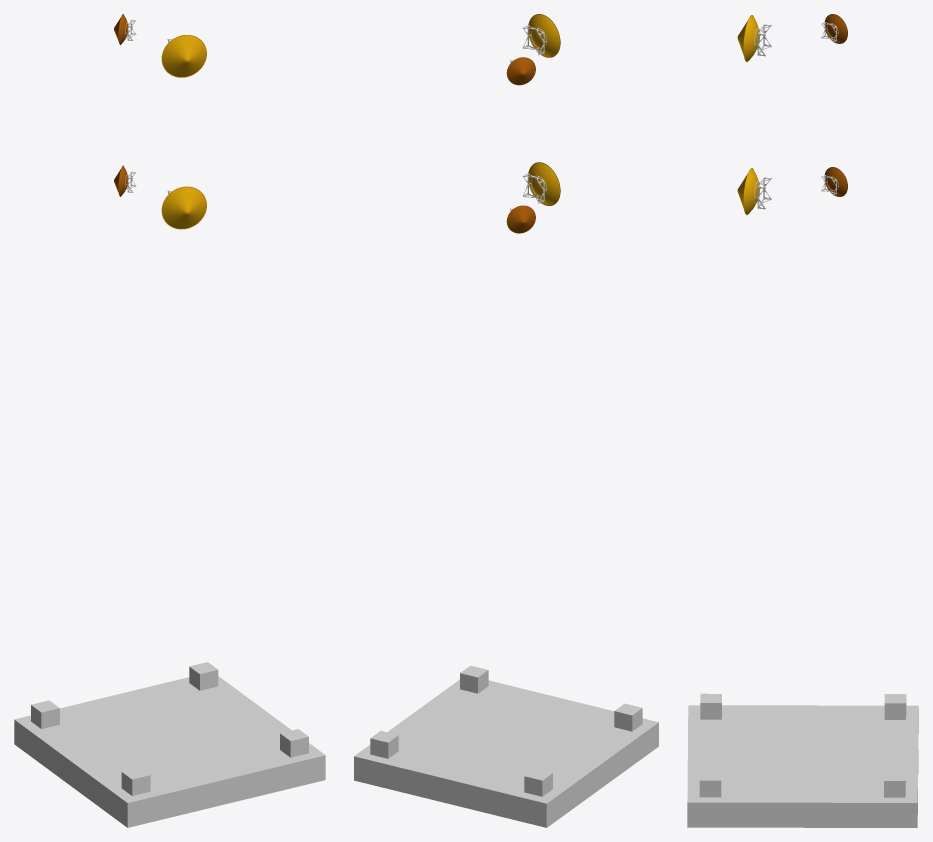
Rendered from 漢那ダム.glb.
The picture shows the model from 3 angles, left to right: view 1: azimuth 30°, elevation 25°; view 2: azimuth 150°, elevation 25°; view 3: azimuth 270°, elevation 25°; orthographic projection. The views are drawn at different scales.
Visible parts, largest first — view 1: group_14, group_88.008, group_88.012, group_13.002, group_13.003, group_13, group_13.001; view 2: group_14, group_88.008, group_88.012, group_13, group_13.001, group_13.002, group_13.003, group_88, group_88.004; view 3: group_14, group_88.008, group_88.012, group_13.001, group_13, group_13.002, group_13.003, group_88, group_88.004.
Part boxes in pixels (x1=…): group_14: x1=14, y1=676, x2=325, y2=827; group_88.008: x1=162, y1=35, x2=206, y2=76; group_88.012: x1=162, y1=187, x2=206, y2=228; group_13.002: x1=121, y1=767, x2=150, y2=795; group_13.003: x1=189, y1=662, x2=218, y2=690; group_13: x1=31, y1=700, x2=59, y2=728; group_13.001: x1=280, y1=729, x2=308, y2=757; group_14: x1=354, y1=679, x2=658, y2=827; group_88.008: x1=529, y1=14, x2=559, y2=57; group_88.012: x1=529, y1=163, x2=559, y2=205; group_13: x1=524, y1=768, x2=552, y2=796; group_13.001: x1=460, y1=665, x2=488, y2=693; group_13.002: x1=614, y1=703, x2=642, y2=731; group_13.003: x1=370, y1=731, x2=398, y2=758; group_88: x1=507, y1=57, x2=535, y2=84; group_88.004: x1=507, y1=206, x2=535, y2=232; group_14: x1=687, y1=705, x2=918, y2=827; group_88.008: x1=737, y1=15, x2=759, y2=61; group_88.012: x1=737, y1=169, x2=759, y2=214; group_13.001: x1=699, y1=771, x2=721, y2=797; group_13: x1=884, y1=694, x2=906, y2=719; group_13.002: x1=700, y1=693, x2=721, y2=719; group_13.003: x1=884, y1=772, x2=905, y2=797; group_88: x1=825, y1=14, x2=847, y2=43; group_88.004: x1=825, y1=167, x2=847, y2=196.
Size of the model in its own units: 15.05 by 54.34 by 15.05.
